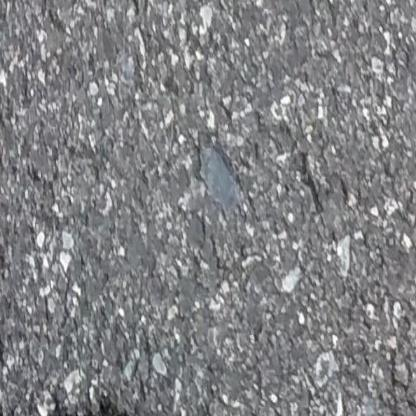Cracks: (51, 397, 152, 416)
